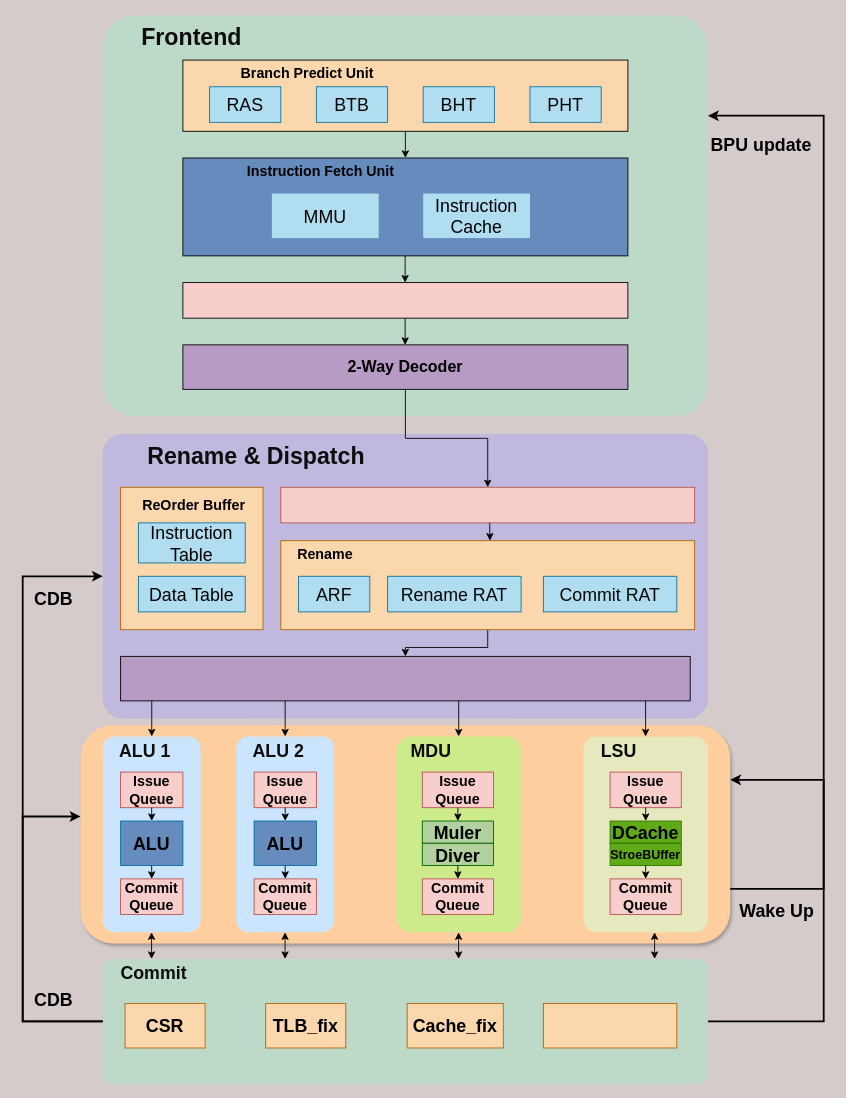
Image size: 846x1098. Some labels were removed from this diagram. The shapes that lost their labels are listed below. From the top down, each one's centre as x and y in pixels, then its label:
(x=405, y=300): Decoder Buffer
(x=487, y=504): Rename Buffer
(x=405, y=678): Dispatch
(x=609, y=1025): Commit_fsm
